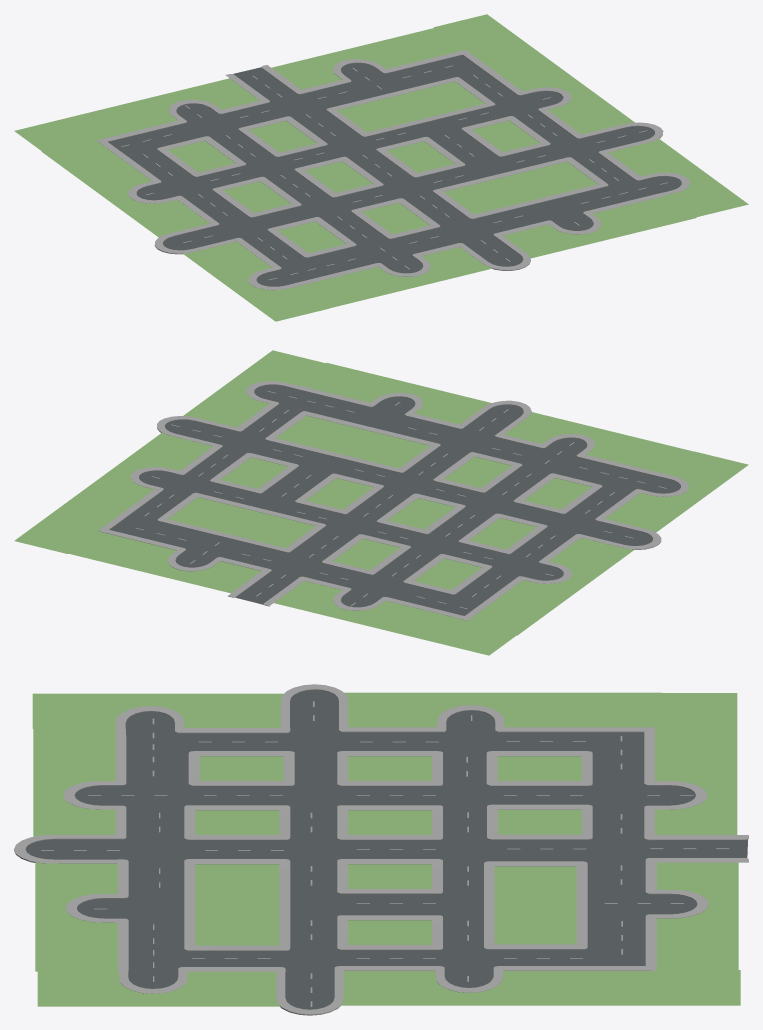
The picture shows the model from 3 angles, top to bottom: view 1: azimuth 30°, elevation 25°; view 2: azimuth 150°, elevation 25°; view 3: azimuth 270°, elevation 25°; orthographic projection. The views are drawn at different scales.
Visible parts, largest first — view 1: polySurface506, polySurface25; view 2: polySurface506, polySurface25; view 3: polySurface506, polySurface25.
Part boxes in pixels (<box>): polySurface506: <box>14,14,748,321</box>; polySurface25: <box>121,65,667,280</box>; polySurface506: <box>14,350,748,655</box>; polySurface25: <box>136,391,666,608</box>; polySurface506: <box>14,684,748,1015</box>; polySurface25: <box>41,701,729,1006</box>.
Size of the model in its own units: 194 by 0.4194 by 183.
